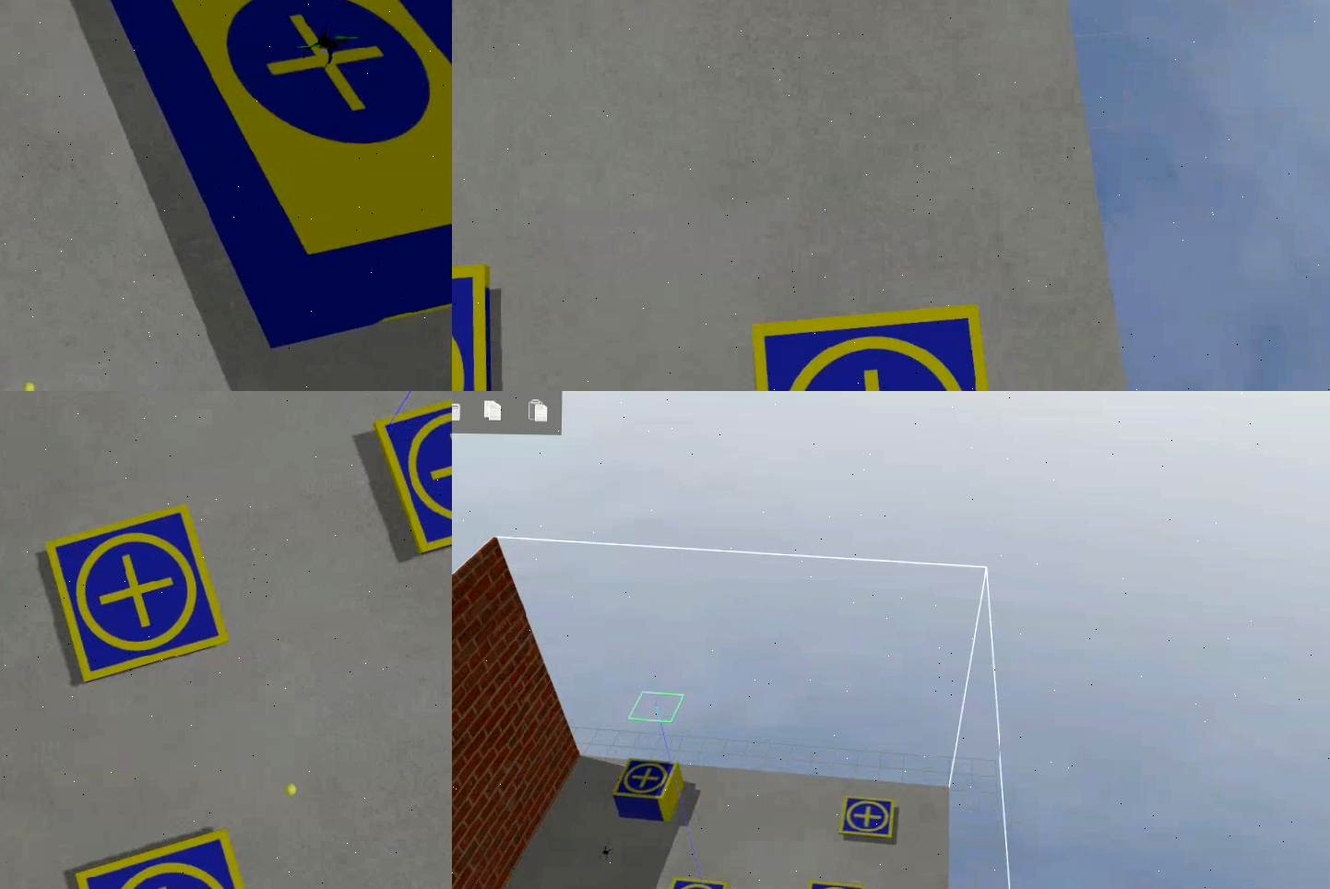large_base: (73, 1, 453, 358)
small_base: (42, 506, 239, 683), (751, 302, 1012, 391), (67, 828, 276, 889), (378, 391, 453, 554), (614, 757, 680, 797), (839, 794, 897, 839), (658, 876, 728, 889)
